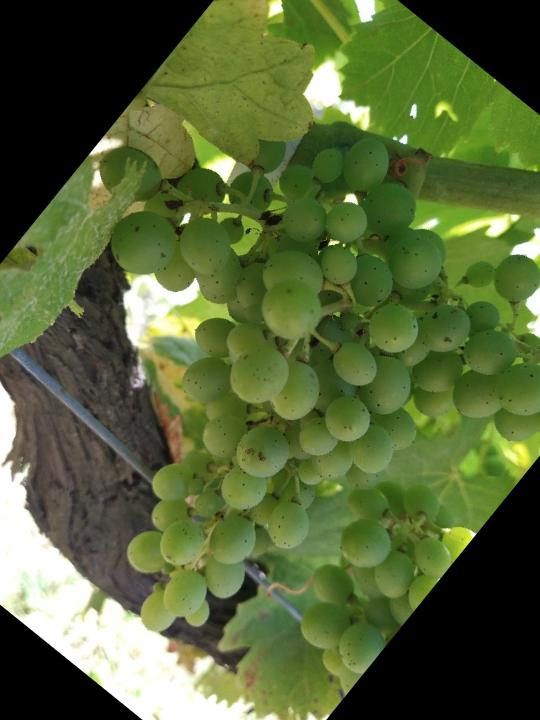grape: (0, 2, 540, 720)
